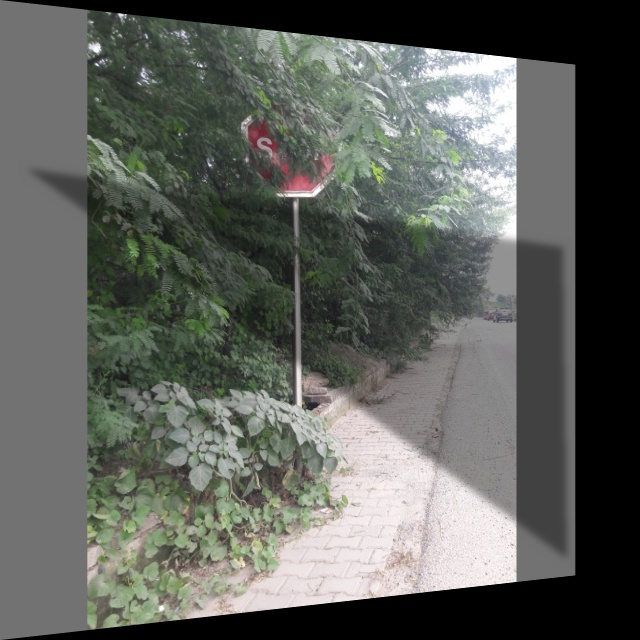Stop: (241, 102, 334, 199)
